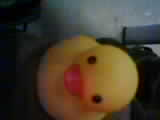duck: (31, 26, 152, 117)
